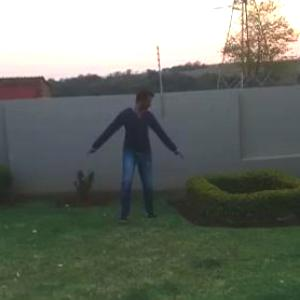land: (85, 91, 183, 228)
